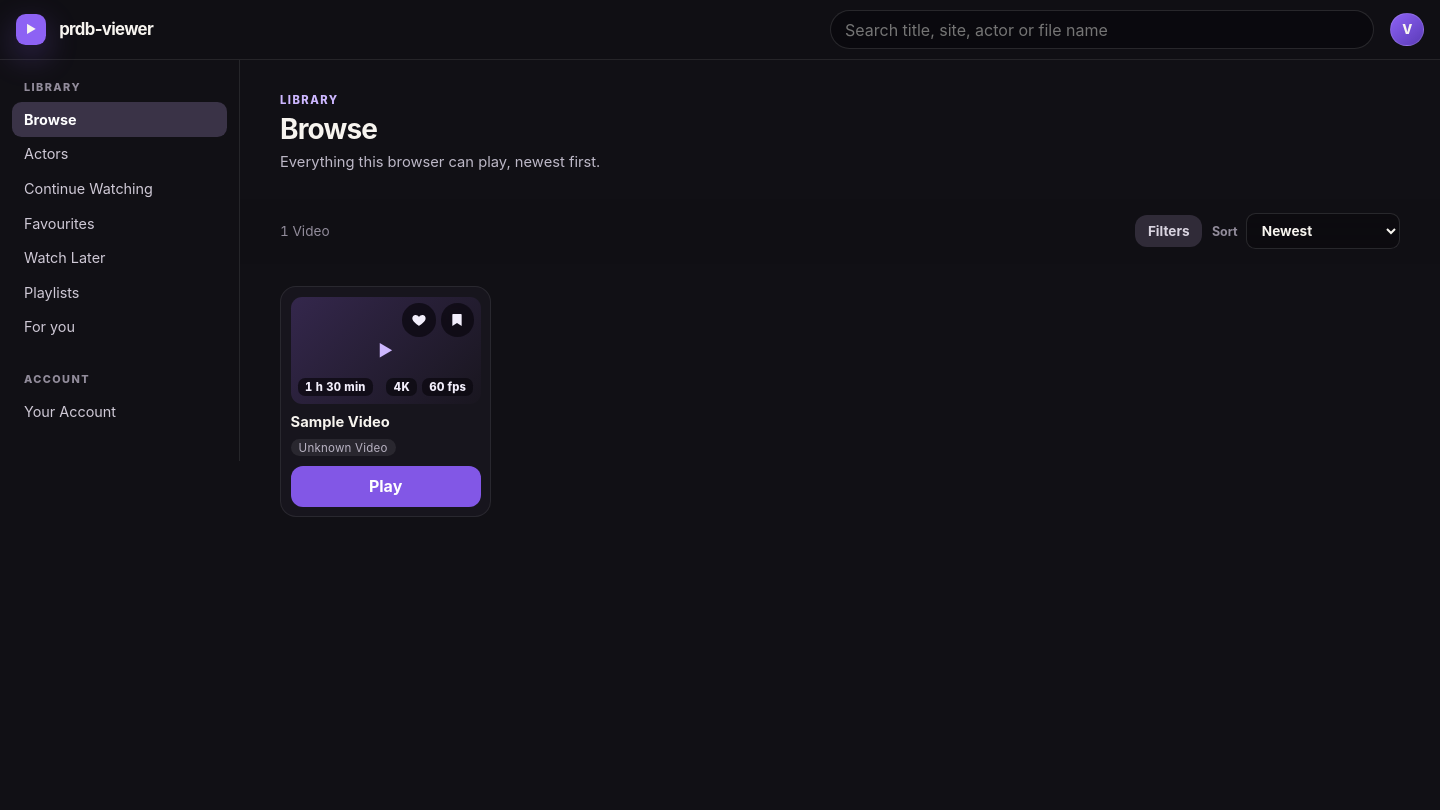
Test: App › says what a Video is worth watching at, on the shelf and on its own page
Expected: the text "4K" is shown, [386, 378, 417, 396]
Expected: the text "60 fps" is shown, [422, 378, 474, 396]
Click the text "Sample Video".
click(340, 422)  # box [291, 413, 390, 431]
(page scrolled)
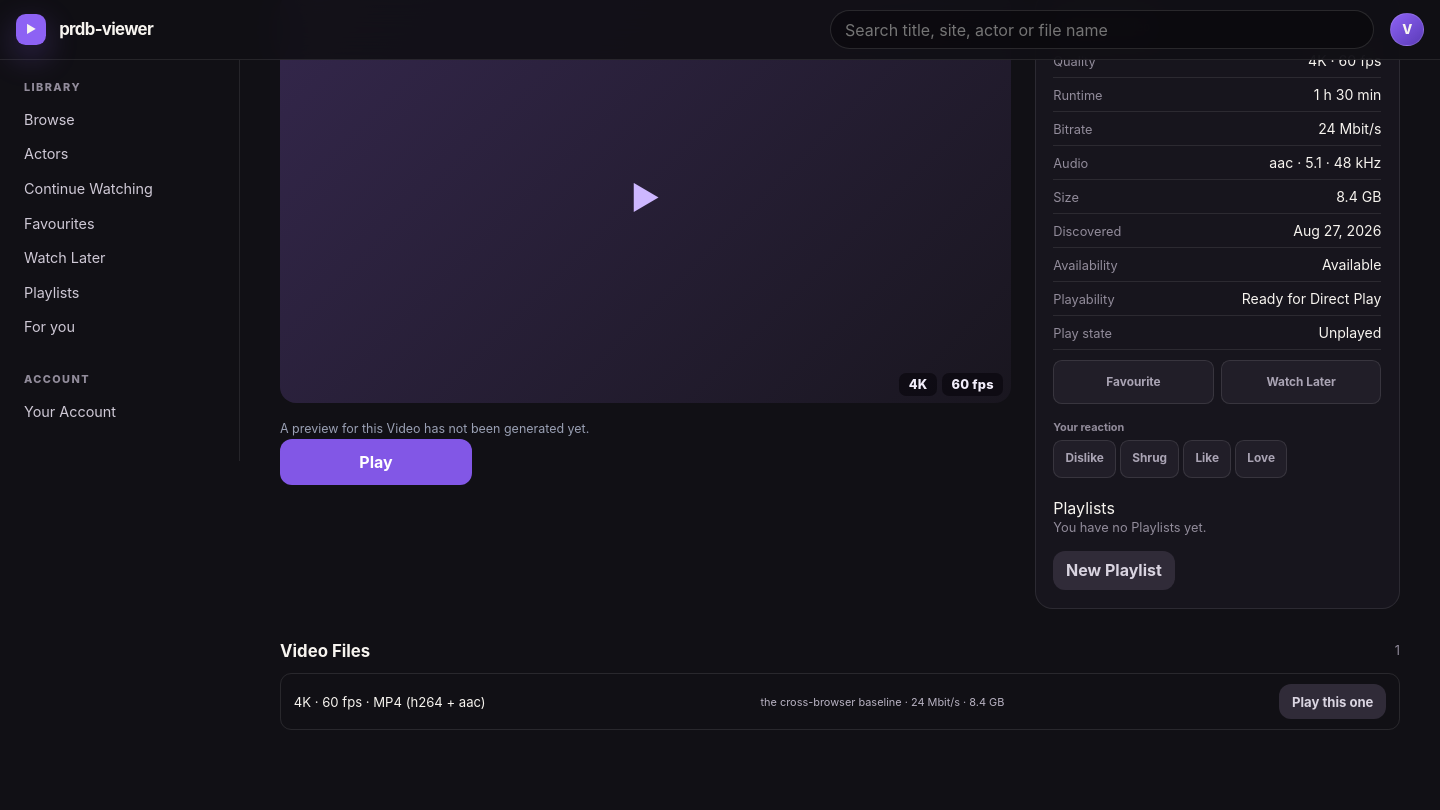
Result: the text "4K · 60 fps" is shown at [1308, 52, 1381, 69]
Result: the text "24 Mbit/s" is shown at [1318, 120, 1381, 137]
Result: the text "aac · 5.1 · 48 kHz" is shown at [1269, 154, 1381, 171]
